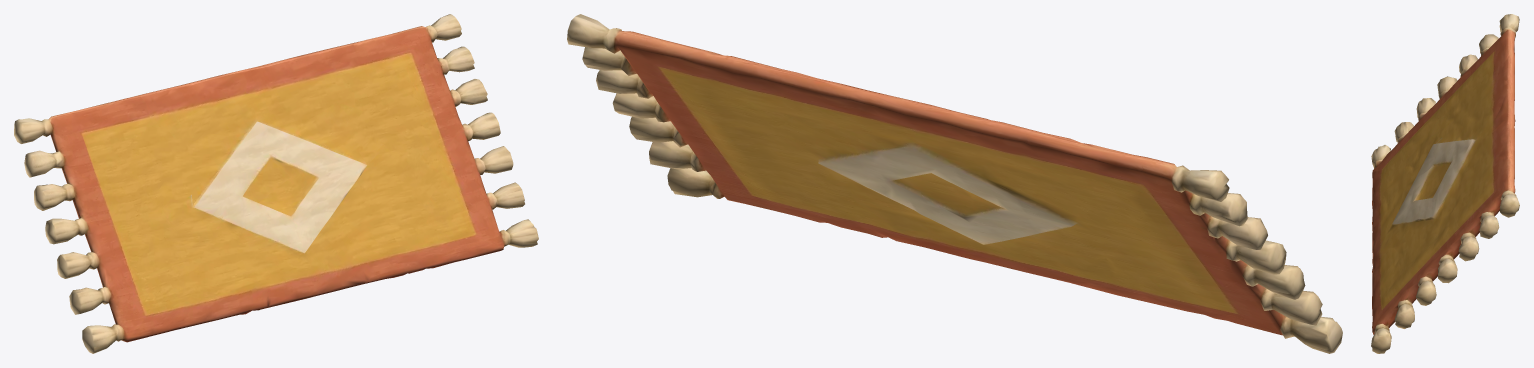
Rendered from rug.glb.
3 views of the same model, side by side, from view 1: azimuth 30°, elevation 25°; view 2: azimuth 150°, elevation 25°; view 3: azimuth 270°, elevation 25° (orthographic). The views are drawn at different scales.
Visible parts, largest first — view 1: tripo_node_c26cad50-32b5-41c1-aacc-33497ebc03ee; view 2: tripo_node_c26cad50-32b5-41c1-aacc-33497ebc03ee; view 3: tripo_node_c26cad50-32b5-41c1-aacc-33497ebc03ee.
Part boxes in pixels (x1,y1,x2,y2): tripo_node_c26cad50-32b5-41c1-aacc-33497ebc03ee: (14, 14, 538, 353); tripo_node_c26cad50-32b5-41c1-aacc-33497ebc03ee: (567, 14, 1342, 353); tripo_node_c26cad50-32b5-41c1-aacc-33497ebc03ee: (1371, 14, 1519, 353).
Bounding box in the file's own units: 1 × 0.376 × 0.3284.
1 material, 1 textured.
